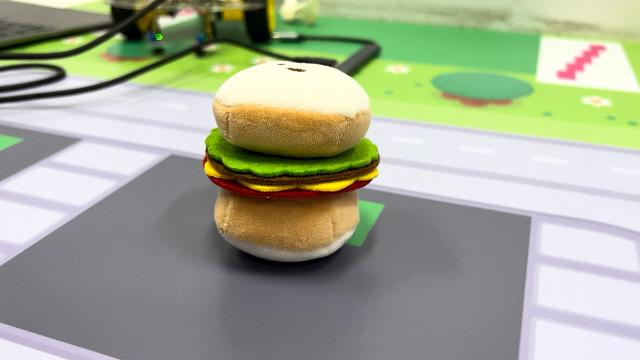sandwich: (200, 58, 382, 264)
